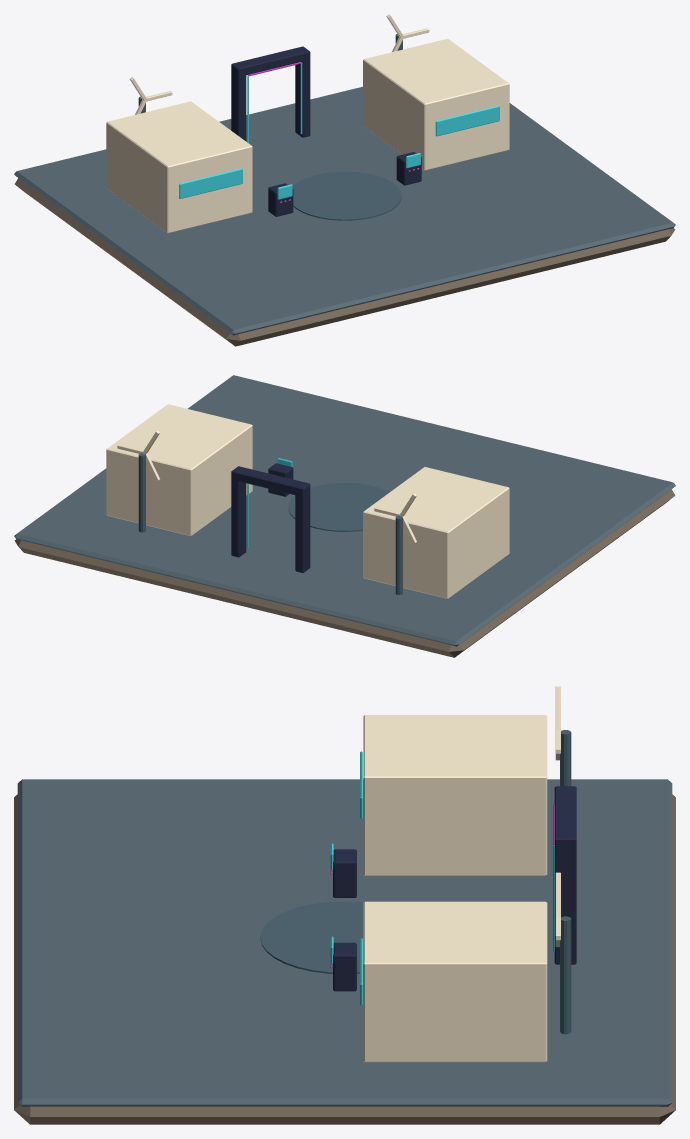
File: world-space.glb
3 views of the same model, one above another, from view 1: azimuth 30°, elevation 25°; view 2: azimuth 150°, elevation 25°; view 3: azimuth 270°, elevation 25° (orthographic). The views are drawn at different scales.
Visible parts, largest first — view 1: terrain-top, habitat, habitat.001, terrain-stratum, landing-pad, portal-lintel.001, portal-pillar.003, habitat-window.001, habitat-window, portal-pillar.002, terminal-base.001, terminal-base.002; view 2: terrain-top, habitat, habitat.001, terrain-stratum, landing-pad, portal-pillar.002, portal-pillar.003, portal-lintel.001, mast.002, mast.001; view 3: terrain-top, habitat.001, habitat, terrain-stratum, landing-pad, portal-pillar.003, portal-lintel.001, mast.002, terminal-base.002, terminal-base.001, mast.001.
Part boxes in pixels (x1,y1,x2,y2): terrain-top: [14, 86, 675, 335]; habitat: [106, 101, 252, 233]; habitat.001: [363, 38, 509, 170]; terrain-stratum: [14, 178, 675, 346]; landing-pad: [292, 171, 401, 220]; portal-lintel.001: [231, 46, 310, 76]; portal-pillar.003: [295, 57, 310, 137]; habitat-window.001: [435, 105, 499, 136]; habitat-window: [179, 168, 242, 198]; portal-pillar.002: [231, 69, 246, 141]; terminal-base.001: [268, 183, 293, 216]; terminal-base.002: [396, 152, 421, 185]; terrain-top: [14, 375, 675, 646]; habitat: [363, 467, 509, 598]; habitat.001: [106, 404, 252, 535]; terrain-stratum: [14, 489, 675, 657]; landing-pad: [288, 483, 389, 531]; portal-pillar.002: [295, 489, 310, 572]; portal-pillar.003: [231, 476, 246, 557]; portal-lintel.001: [231, 466, 310, 496]; mast.002: [138, 453, 145, 532]; mast.001: [395, 516, 402, 594]; terrain-top: [17, 779, 672, 1106]; habitat.001: [363, 901, 547, 1062]; habitat: [363, 715, 547, 875]; terrain-stratum: [14, 794, 675, 1124]; landing-pad: [260, 901, 363, 973]; portal-pillar.003: [554, 846, 576, 964]; portal-lintel.001: [554, 786, 576, 850]; mast.002: [560, 916, 571, 1034]; terminal-base.002: [333, 942, 356, 991]; terminal-base.001: [333, 849, 356, 897]; mast.001: [560, 730, 571, 786].
Size of the model in its own units: 21 by 5.4 by 18.
